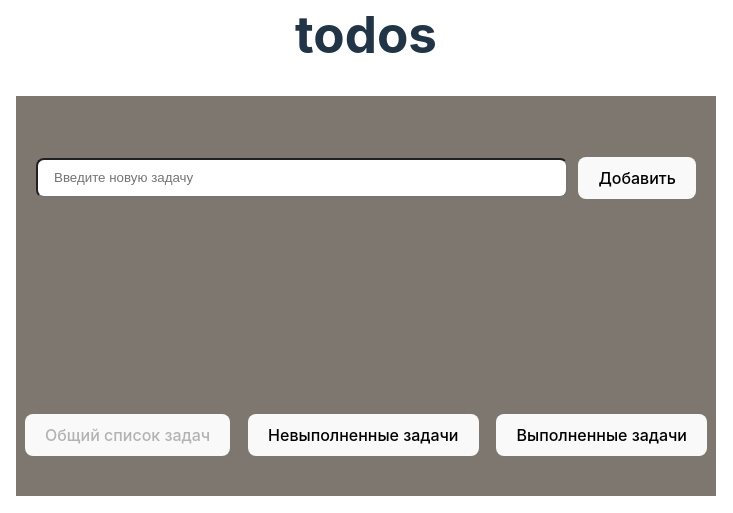
проверка общего списка задач
The width and height of the screenshot is (733, 513).
Type "Первая задача" into the field with placeholder "Введите новую задачу" at (302, 178), box [36, 158, 568, 198]
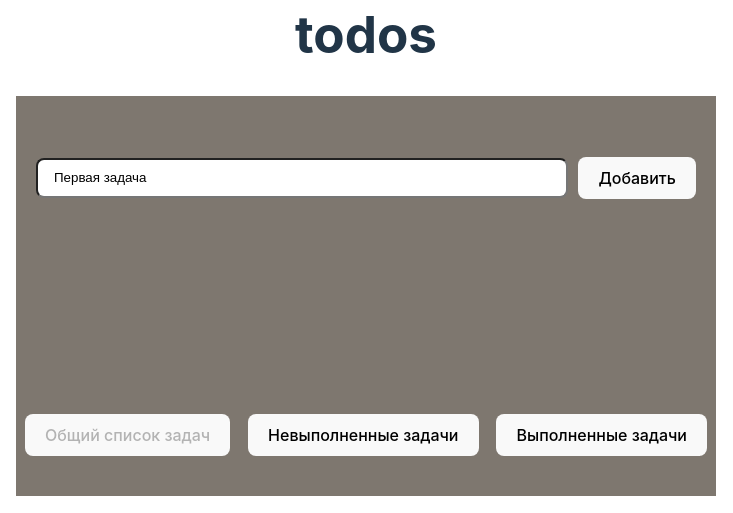
Click the button "Добавить" at (637, 178), box [578, 157, 696, 199]
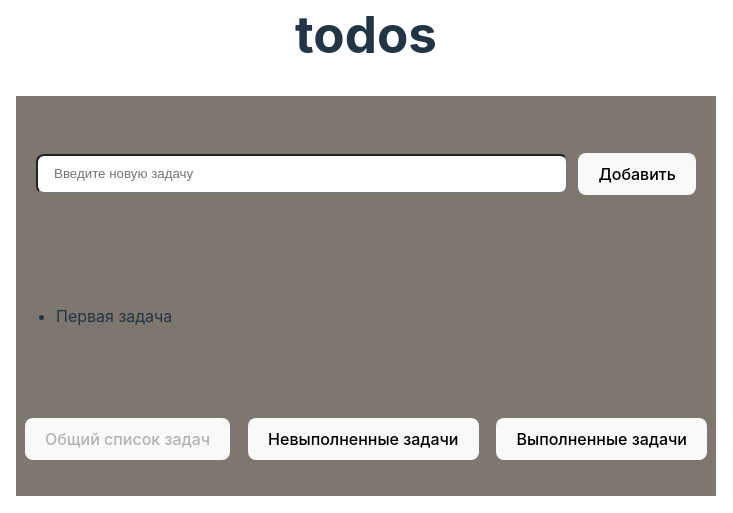
Type "Вторая задача" into the field with placeholder "Введите новую задачу" at (302, 174), box [36, 154, 568, 194]
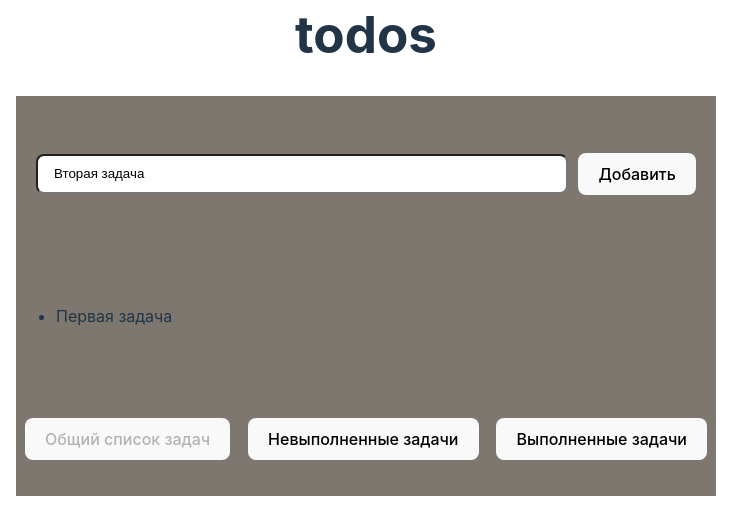
Click the button "Добавить" at (637, 174), box [578, 153, 696, 195]
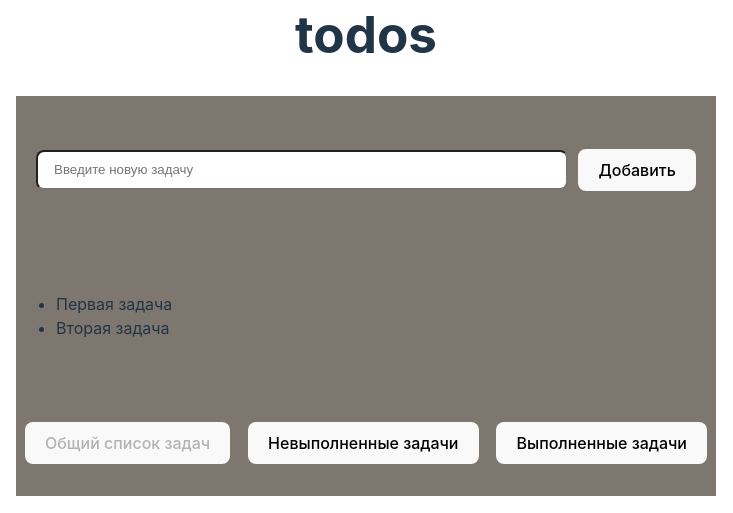
Now the list item "Первая задача" is shown, box [56, 294, 172, 314]
Now the list item "Вторая задача" is shown, box [56, 318, 170, 338]
